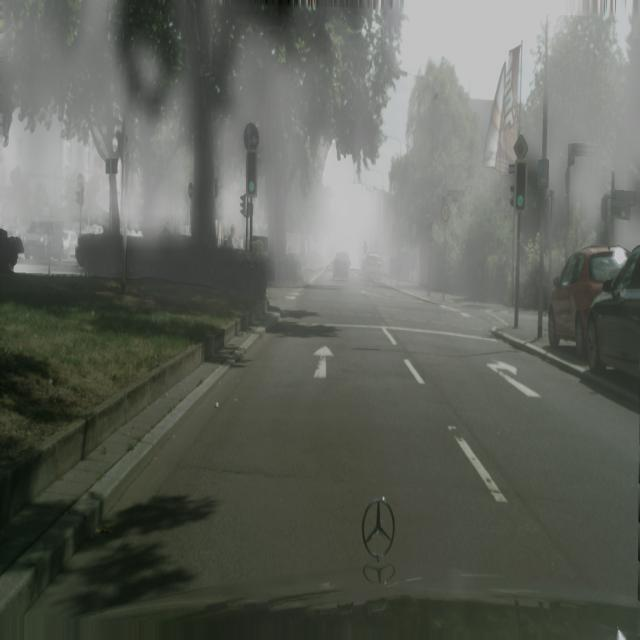person: (548, 244, 628, 358), (585, 245, 640, 382), (24, 217, 64, 261), (363, 253, 383, 282), (332, 251, 350, 281), (62, 230, 78, 259)
